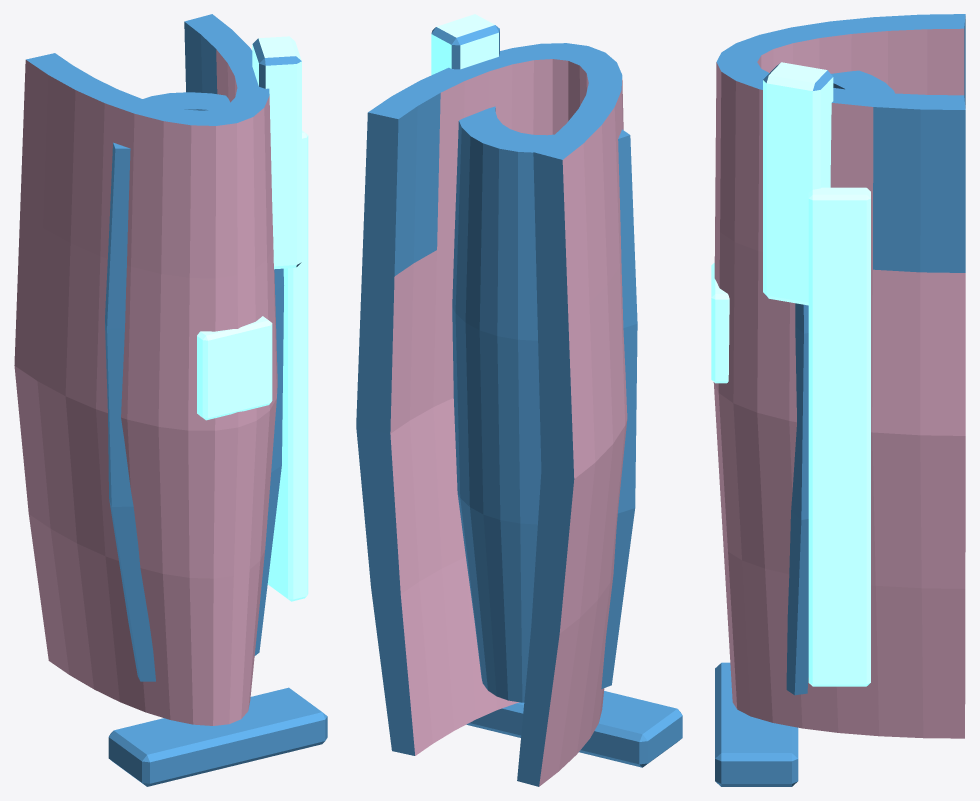
The model's file is left_thigh.glb.
The picture shows the model from 3 angles, left to right: view 1: azimuth 30°, elevation 25°; view 2: azimuth 150°, elevation 25°; view 3: azimuth 270°, elevation 25°; orthographic projection. The views are drawn at different scales.
Visible parts, largest first — view 1: armor_left_thigh_v001; view 2: armor_left_thigh_v001; view 3: armor_left_thigh_v001.
Part boxes in pixels (x1,y1,x2,y2): armor_left_thigh_v001: [14, 14, 327, 786]; armor_left_thigh_v001: [356, 14, 682, 786]; armor_left_thigh_v001: [711, 14, 965, 786].
Size of the model in its own units: 0.1298 by 0.3769 by 0.1225.
